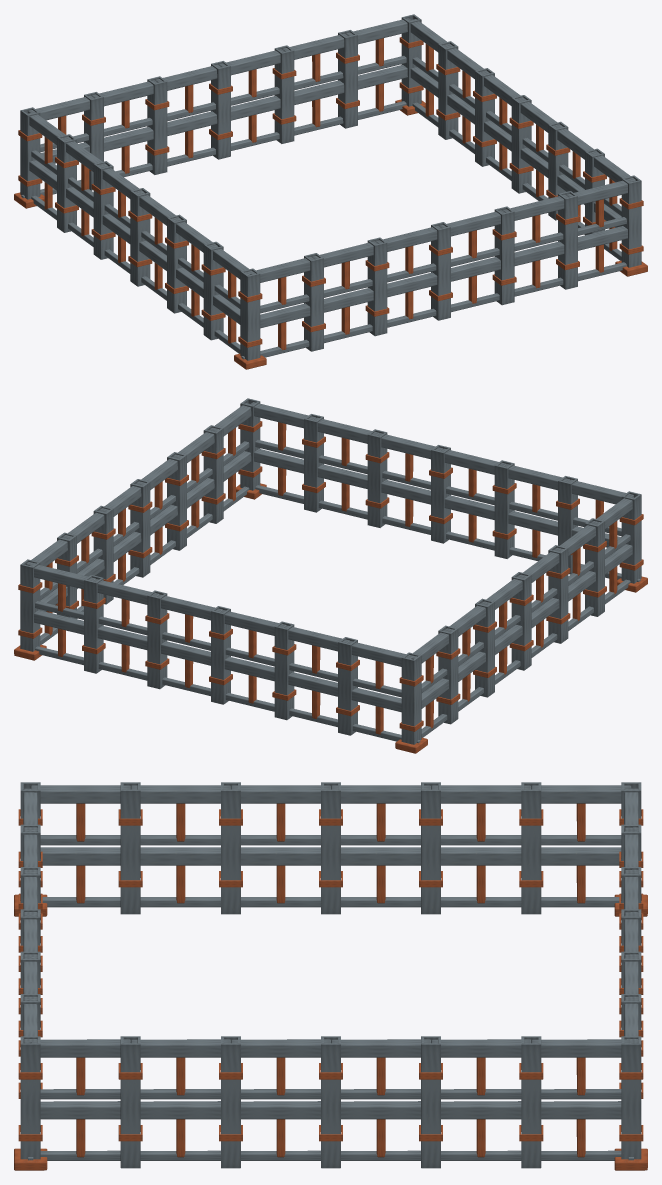
3 renders of one model, top to bottom at view 1: azimuth 30°, elevation 25°; view 2: azimuth 150°, elevation 25°; view 3: azimuth 270°, elevation 25°, orthographic. The views are drawn at different scales.
Visible parts, largest first — view 1: Tier 0 side 0 post 0, Tier 0 side 2 post 4, Tier 0 side 0 post 2, Tier 0 side 2 post 2, Tier 0 side 0 post 4, Tier 0 side 0 post 1, Tier 0 side 0 post 3, Tier 0 side 0 post 5, Tier 0 side 2 post 3, Tier 0 side 2 post 1, Tier 0 side 1 post 0, Tier 0 side 3 post 2 (+47 smaller); view 2: Tier 0 side 3 post 0, Tier 0 side 2 post 4, Tier 0 side 0 post 2, Tier 0 side 0 post 4, Tier 0 side 2 post 2, Tier 0 side 2 post 5, Tier 0 side 2 post 1, Tier 0 side 2 post 3, Tier 0 side 0 post 3, Tier 0 side 0 post 5, Tier 0 side 2 post 0, Tier 0 side 3 post 4 (+47 smaller); view 3: Tier 0 side 3 post 1, Tier 0 side 3 post 5, Tier 0 side 1 post 1, Tier 0 side 1 post 5, Tier 0 side 1 post 3, Tier 0 side 1 post 4, Tier 0 side 3 post 2, Tier 0 side 3 post 4, Tier 0 side 1 post 2, Tier 0 side 3 post 3, Tier 0 side 2 post 0, Tier 0 side 1 post 0 (+60 smaller).
Boxes of the visible parts, x1,y1,x2,y2 form: Tier 0 side 0 post 0: (240,268,260,360); Tier 0 side 2 post 4: (147,76,167,174); Tier 0 side 0 post 2: (367,237,387,336); Tier 0 side 2 post 2: (274,45,294,143); Tier 0 side 0 post 4: (494,206,514,305); Tier 0 side 0 post 1: (304,253,323,351); Tier 0 side 0 post 3: (431,222,450,320); Tier 0 side 0 post 5: (558,191,577,289); Tier 0 side 2 post 3: (211,61,230,159); Tier 0 side 2 post 1: (338,30,357,128); Tier 0 side 1 post 0: (621,175,641,267); Tier 0 side 3 post 2: (93,161,113,259); Tier 0 side 3 post 0: (401,652,421,744); Tier 0 side 2 post 4: (274,621,294,720); Tier 0 side 0 post 2: (494,460,514,558); Tier 0 side 0 post 4: (367,429,387,527); Tier 0 side 2 post 2: (147,590,167,689); Tier 0 side 2 post 5: (338,637,357,735); Tier 0 side 2 post 1: (84,575,103,673); Tier 0 side 2 post 3: (211,606,230,704); Tier 0 side 0 post 3: (431,445,450,543); Tier 0 side 0 post 5: (304,414,323,512); Tier 0 side 2 post 0: (20,559,40,651); Tier 0 side 3 post 4: (548,545,568,643); Tier 0 side 3 post 1: (521,782,541,914); Tier 0 side 3 post 5: (120,782,140,914); Tier 0 side 1 post 1: (120,1036,140,1168); Tier 0 side 1 post 5: (521,1036,541,1168); Tier 0 side 1 post 3: (321,1036,340,1168); Tier 0 side 1 post 4: (421,1036,440,1168); Tier 0 side 3 post 2: (421,782,440,914); Tier 0 side 3 post 4: (221,782,240,914); Tier 0 side 1 post 2: (221,1036,240,1168); Tier 0 side 3 post 3: (321,782,340,914); Tier 0 side 2 post 0: (621,1036,641,1159); Tier 0 side 1 post 0: (20,1036,40,1159).
Size of the model in its own units: 2.85 by 0.6133 by 2.85.
2 materials, 2 textured.
